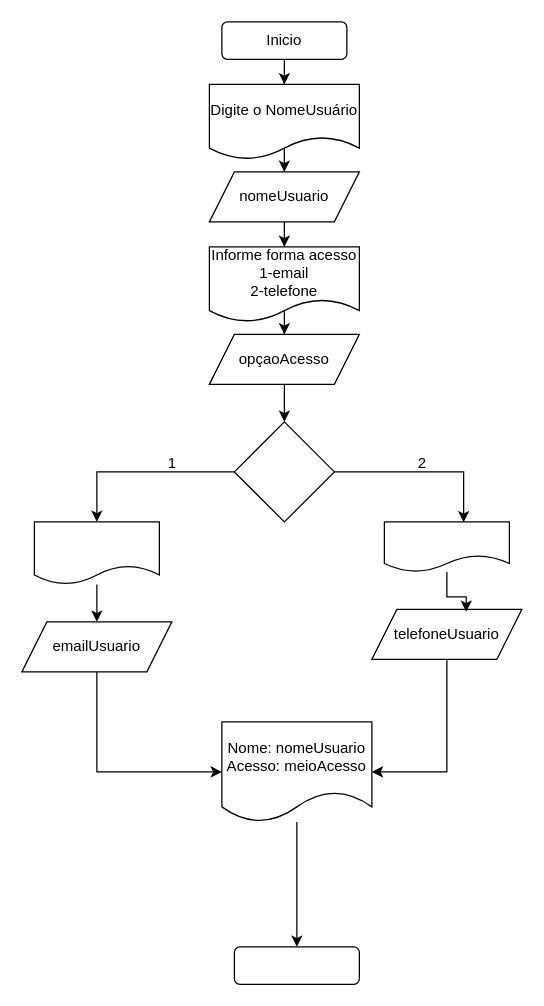
Image size: 544x1006. Some labels were removed from this diagram. The centre of each missing label's shape, as x and y in pixels:
fim: (x=296, y=965)
Informe o email: (x=96, y=552)
Informe o telefone: (x=446, y=546)
Opção: (x=283, y=471)
